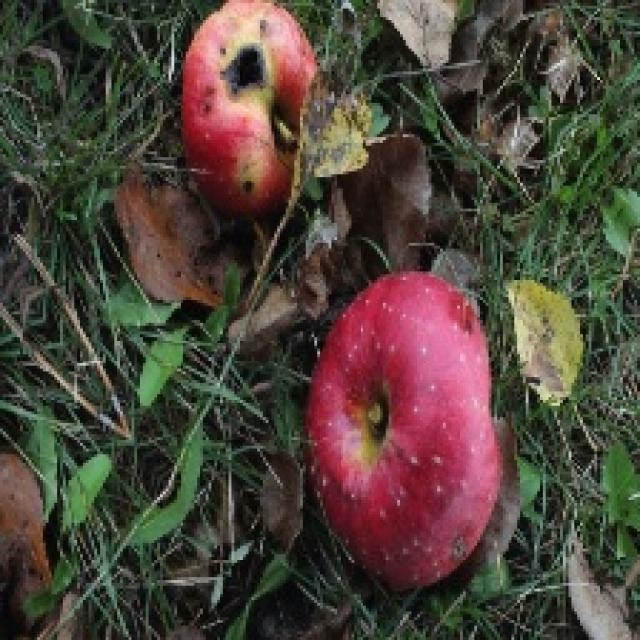rotten_apple: (182, 0, 318, 199)
